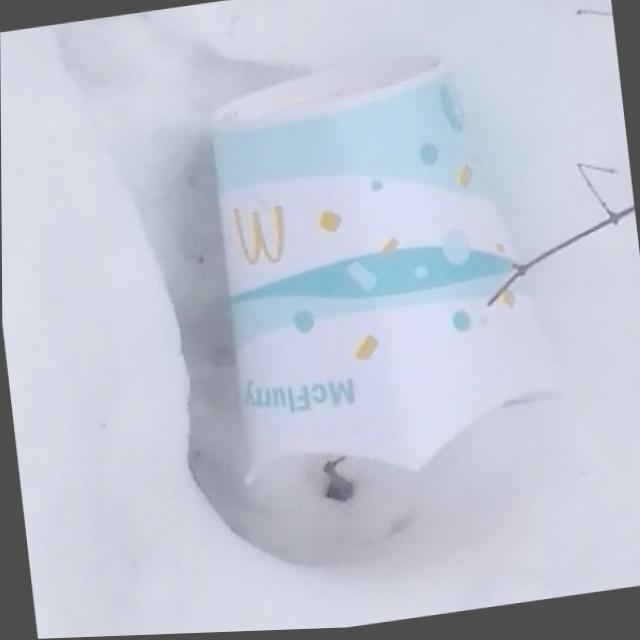Paper: (190, 39, 577, 507)
